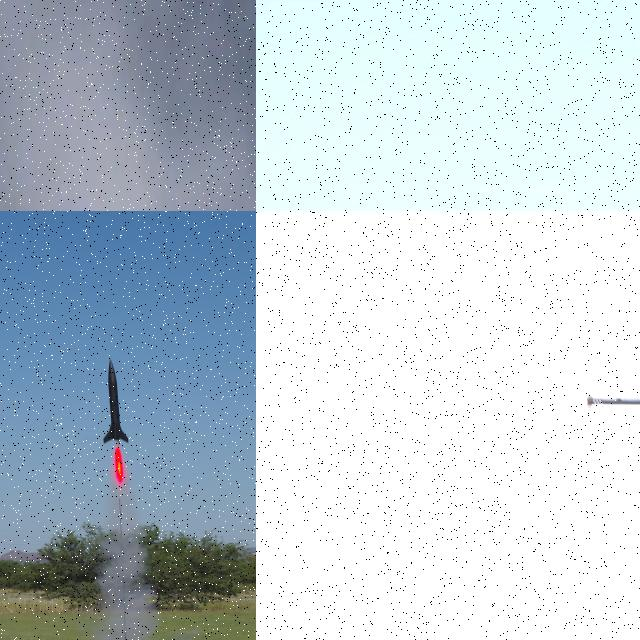Rocket: (102, 358, 133, 447), (586, 392, 640, 408)
